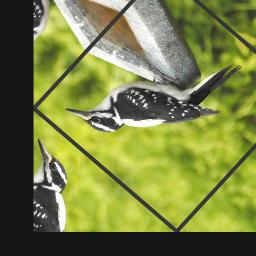Woodpecker: (61, 0, 254, 189)
